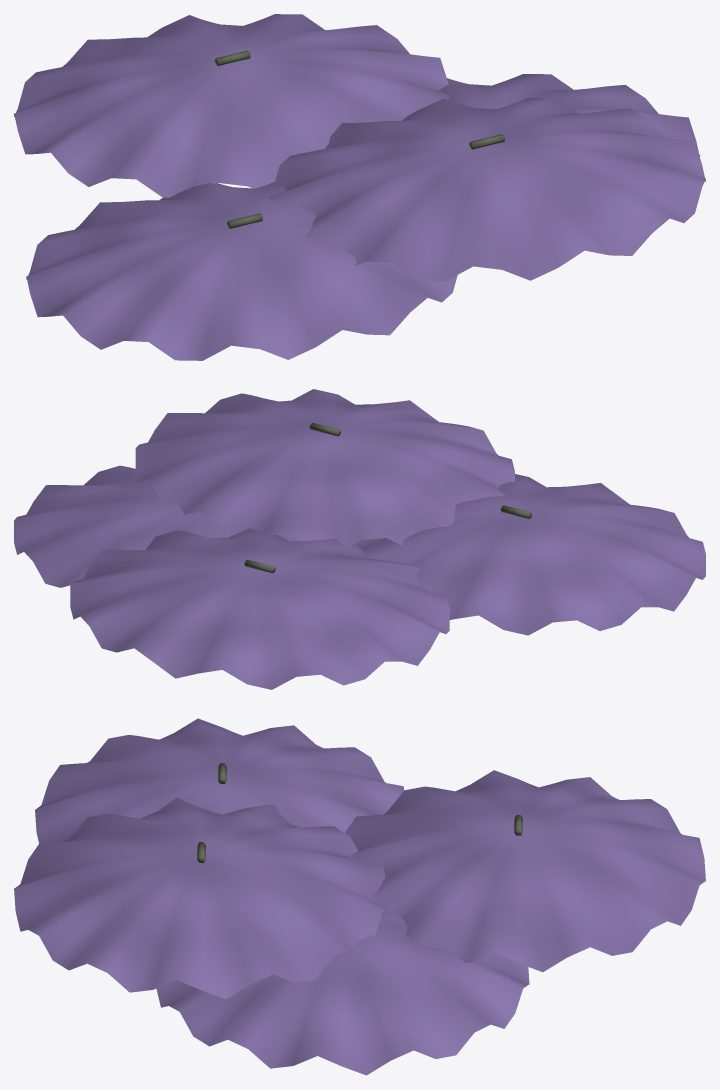
The model's file is mushroom-mobile.glb.
The picture shows the model from 3 angles, top to bottom: view 1: azimuth 30°, elevation 25°; view 2: azimuth 150°, elevation 25°; view 3: azimuth 270°, elevation 25°; orthographic projection. The views are drawn at different scales.
Visible parts, largest first — view 1: oral-disc, central-mouth; view 2: oral-disc, central-mouth; view 3: oral-disc.
Boxes of the visible parts, x1=… form: oral-disc: x1=14, y1=14, x2=705, y2=360; central-mouth: x1=215, y1=50, x2=505, y2=228; oral-disc: x1=14, y1=389, x2=705, y2=689; central-mouth: x1=244, y1=423, x2=531, y2=573; oral-disc: x1=14, y1=718, x2=705, y2=1075.
Bounding box in the file's own units: 0.5632 × 0.0836 × 0.5079.
